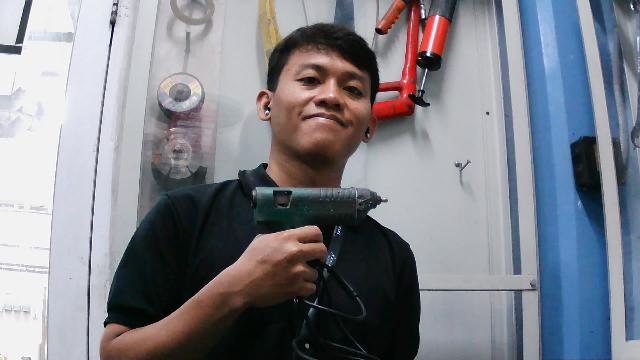gun_lem: (246, 182, 393, 274)
